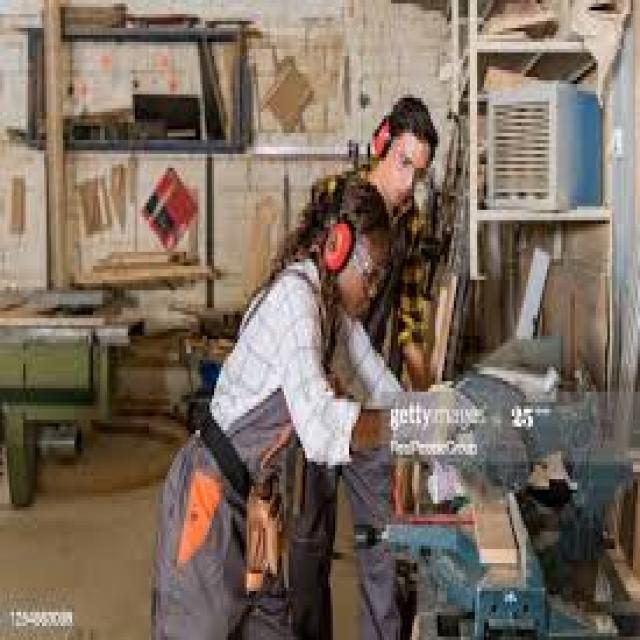Ear-protection: (319, 214, 354, 276), (363, 112, 389, 157)
glasses: (354, 245, 386, 283)
person: (144, 165, 394, 640)
